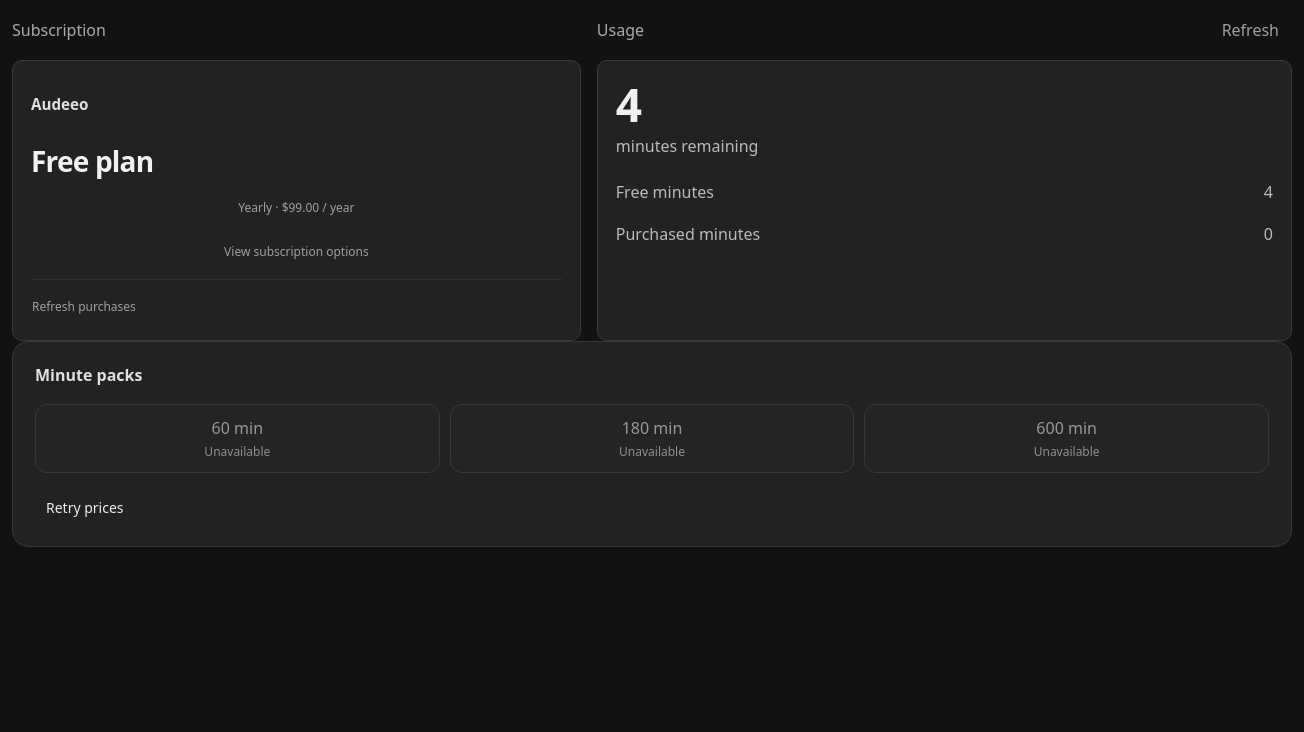
Test: refreshes the balance from Usage without reloading the subscription
Expected: the element named "4 min remaining" is shown, top-left (616, 79), bottom-right (758, 157)
Click the button "Refresh": click(1250, 30) top-left (1209, 13), bottom-right (1292, 47)
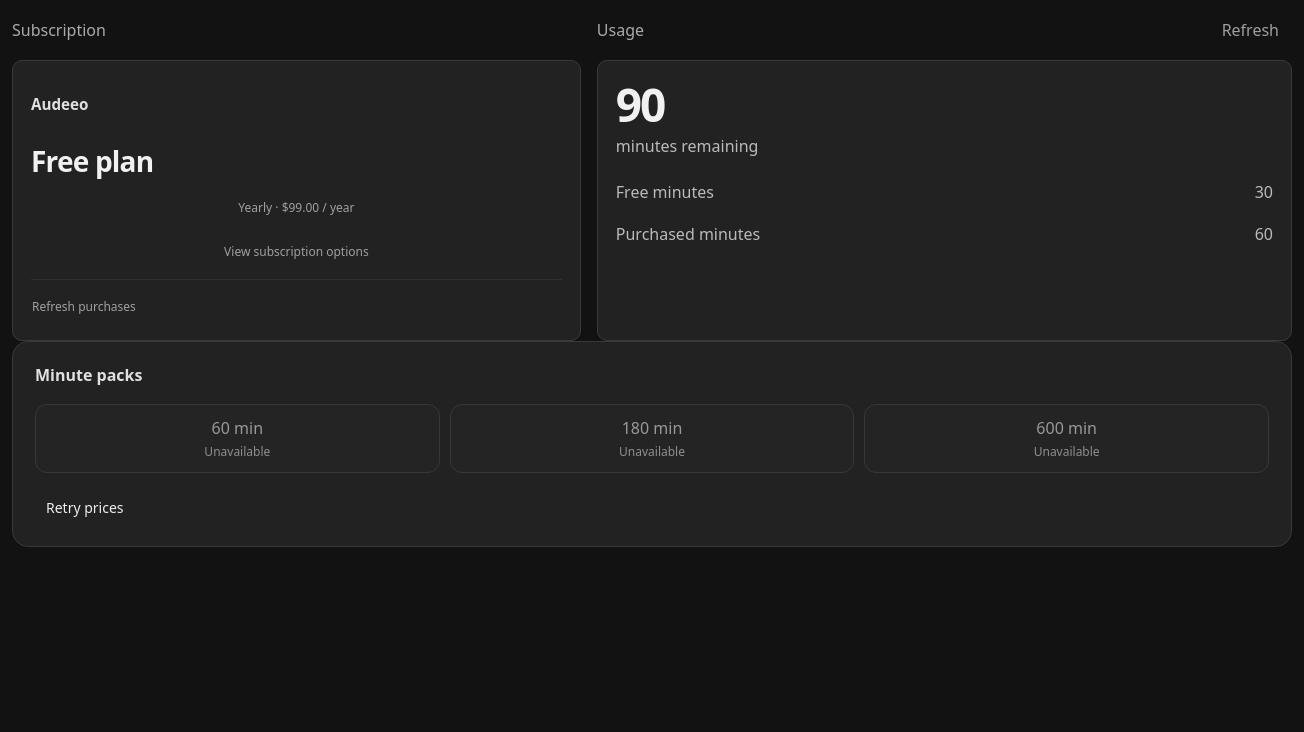
Now the element named "90 min remaining" is shown, box top-left (616, 79), bottom-right (758, 157)
